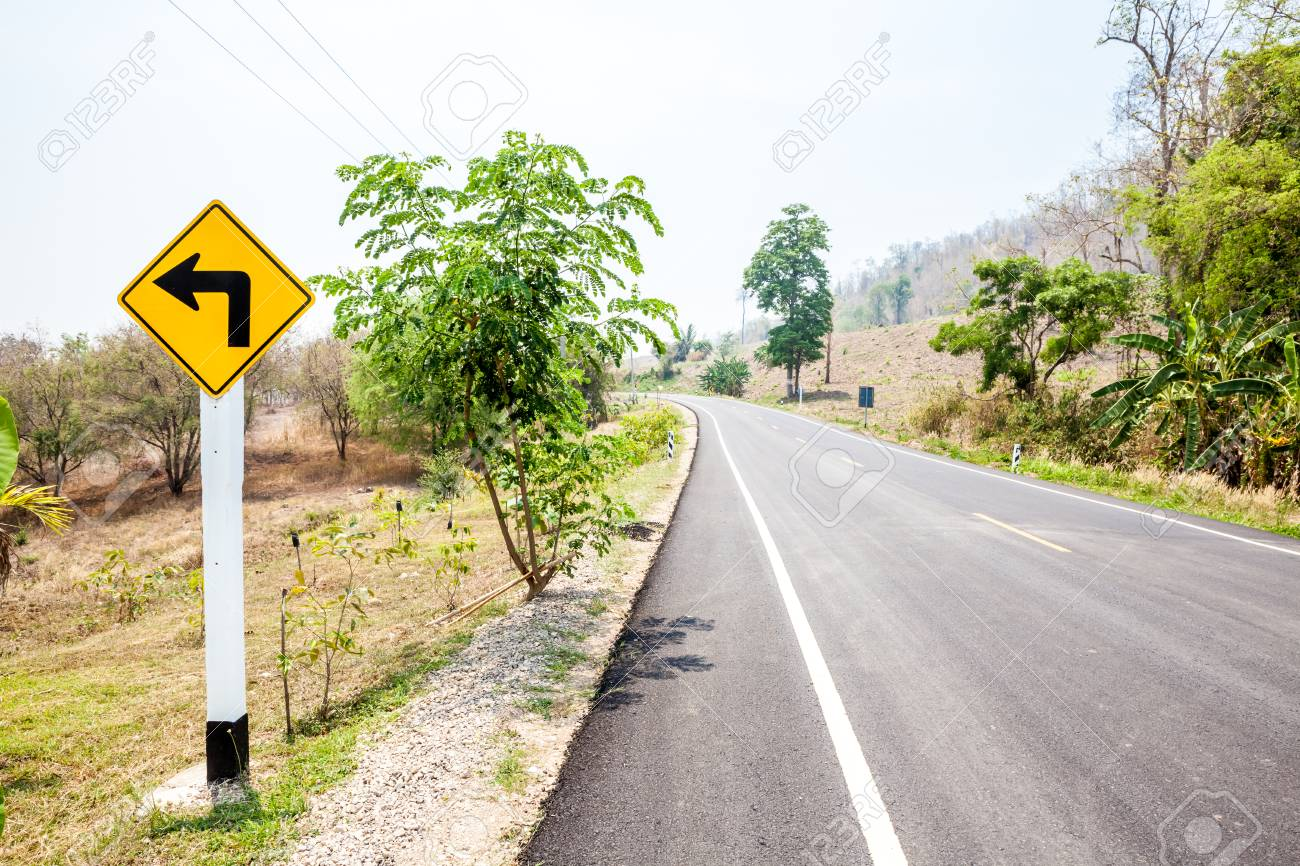left: (116, 197, 318, 402)
